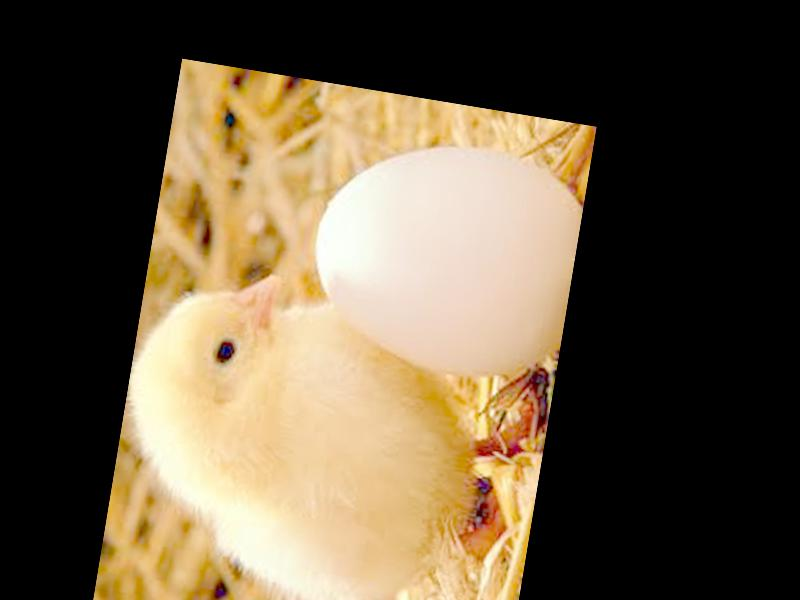Eggs: (297, 125, 590, 391)
